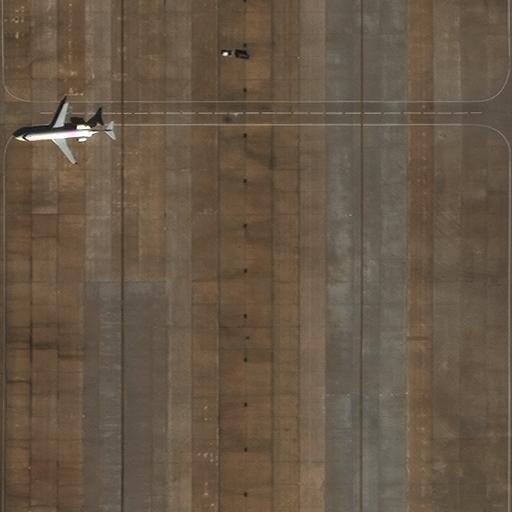Medium Civil Transport: (14, 102, 115, 164)
